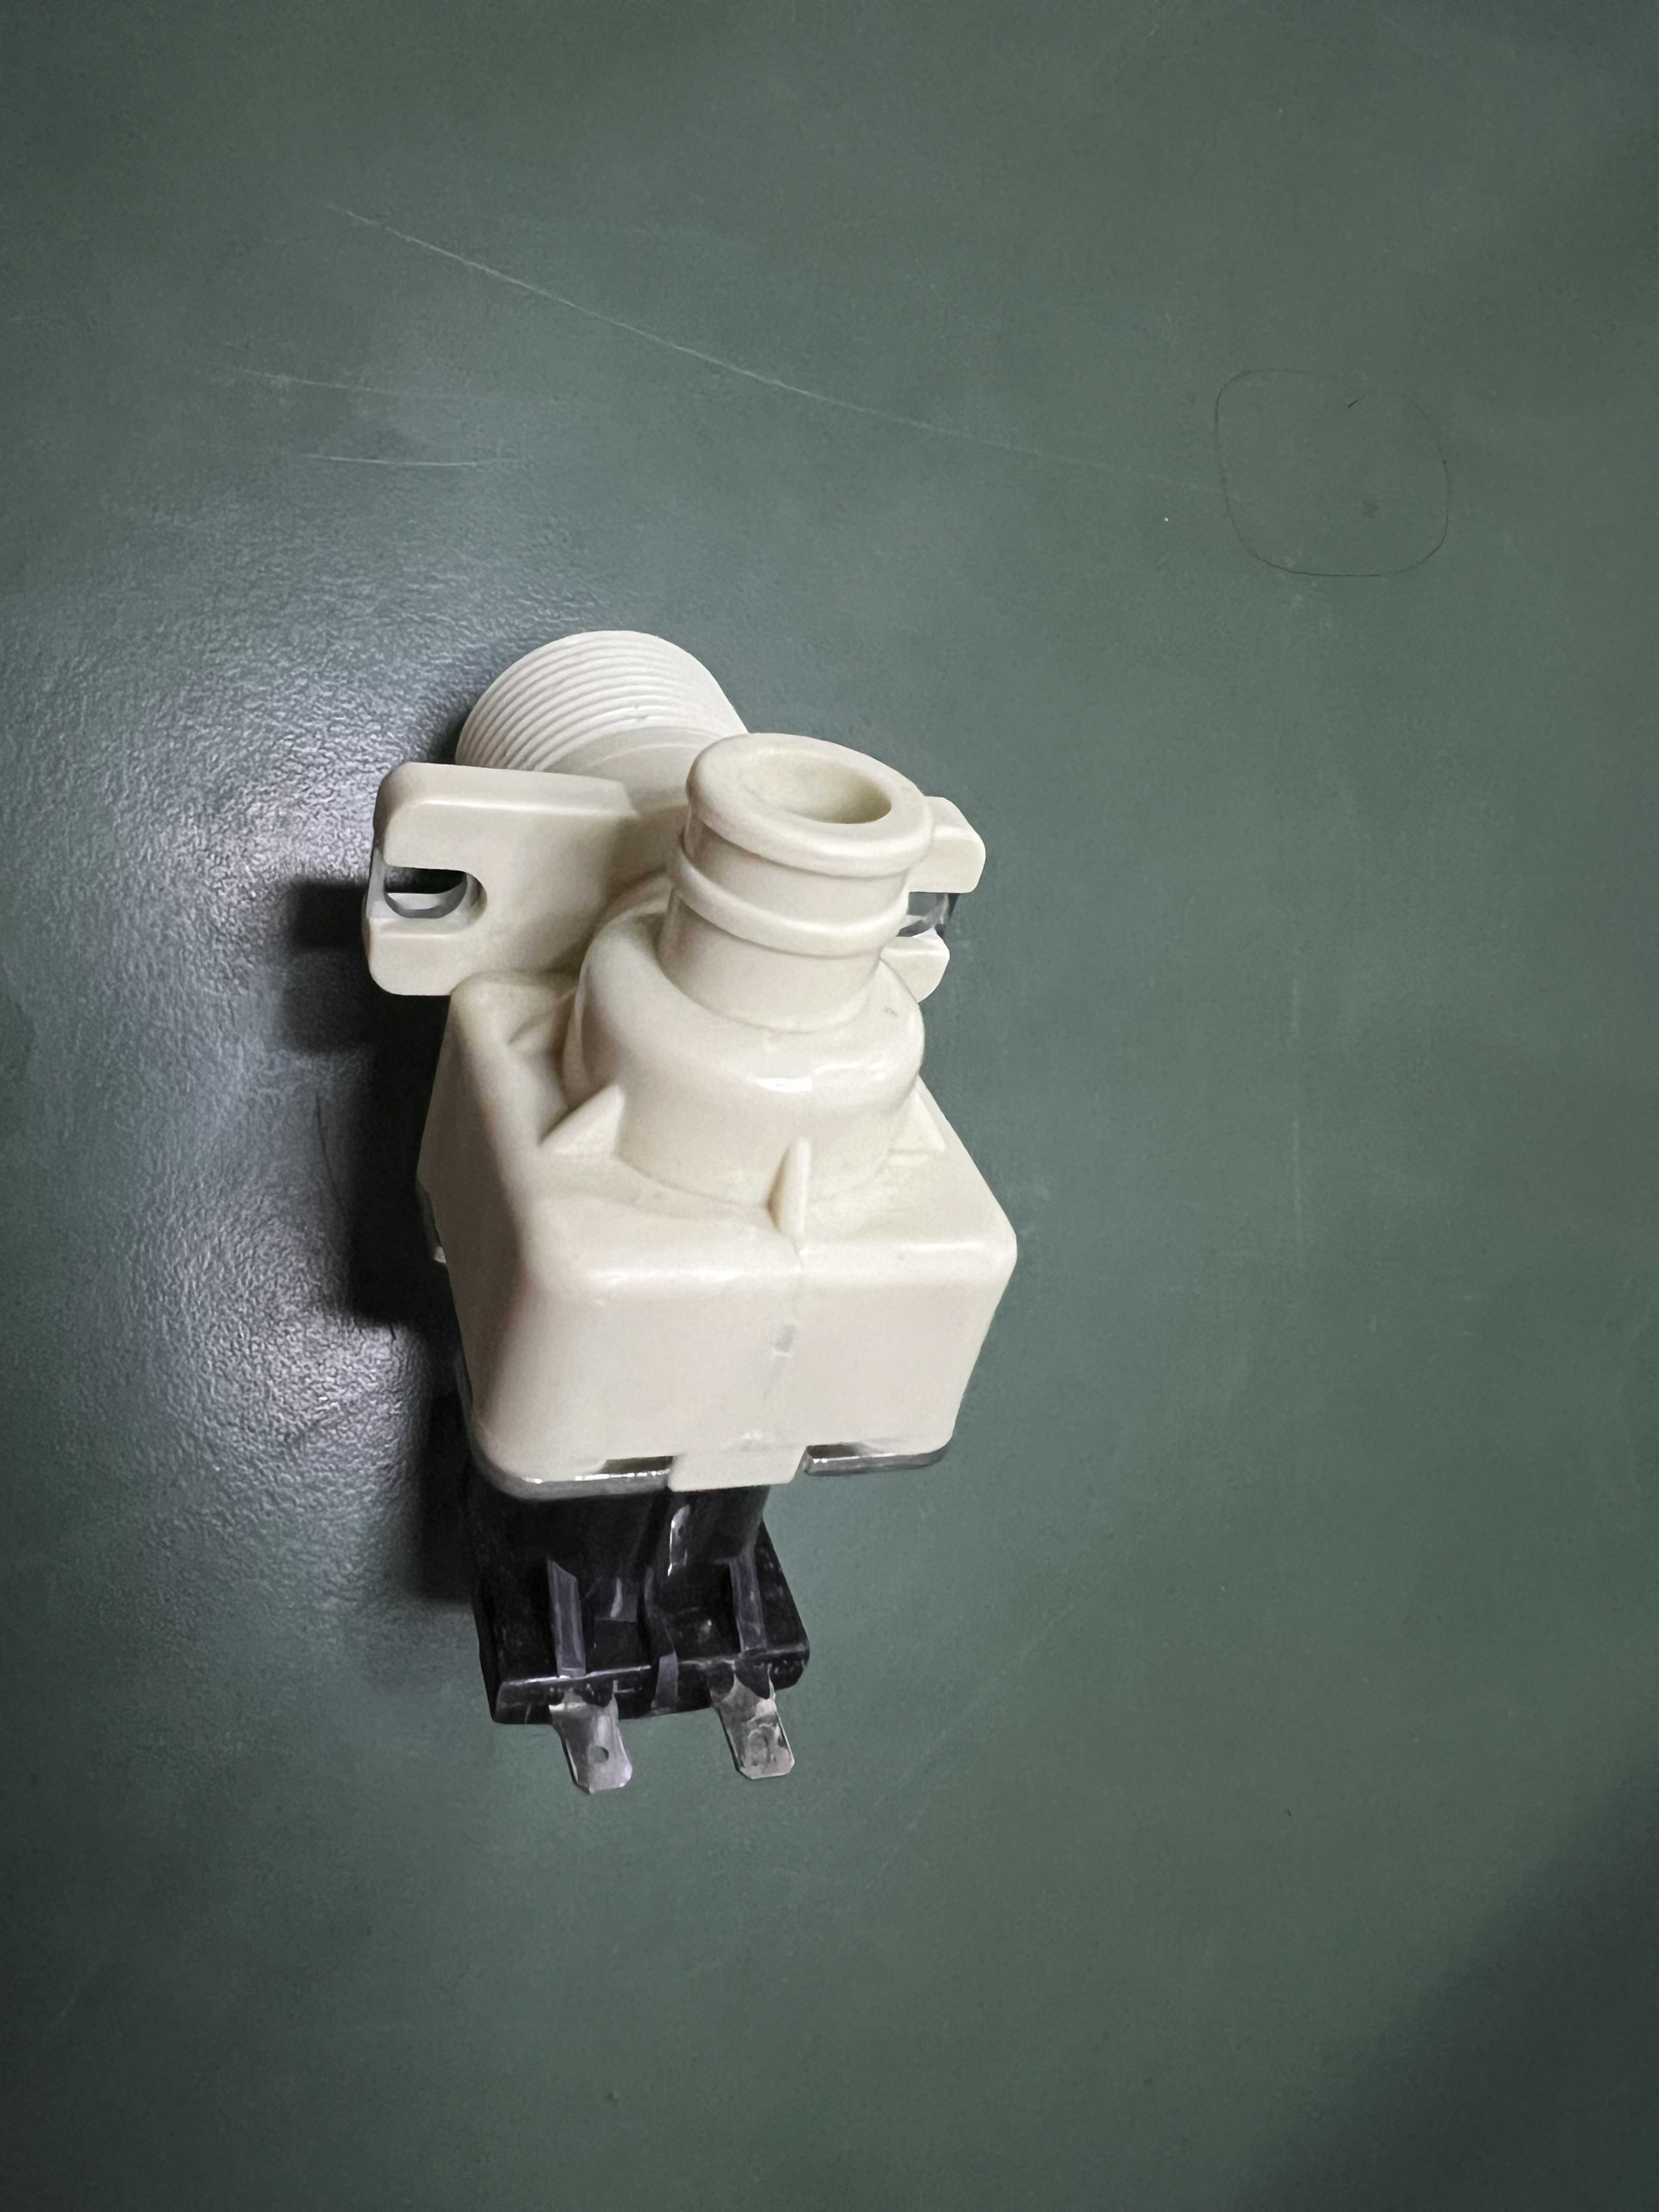godrej_inlet_valves: (268, 617, 1051, 1801)
